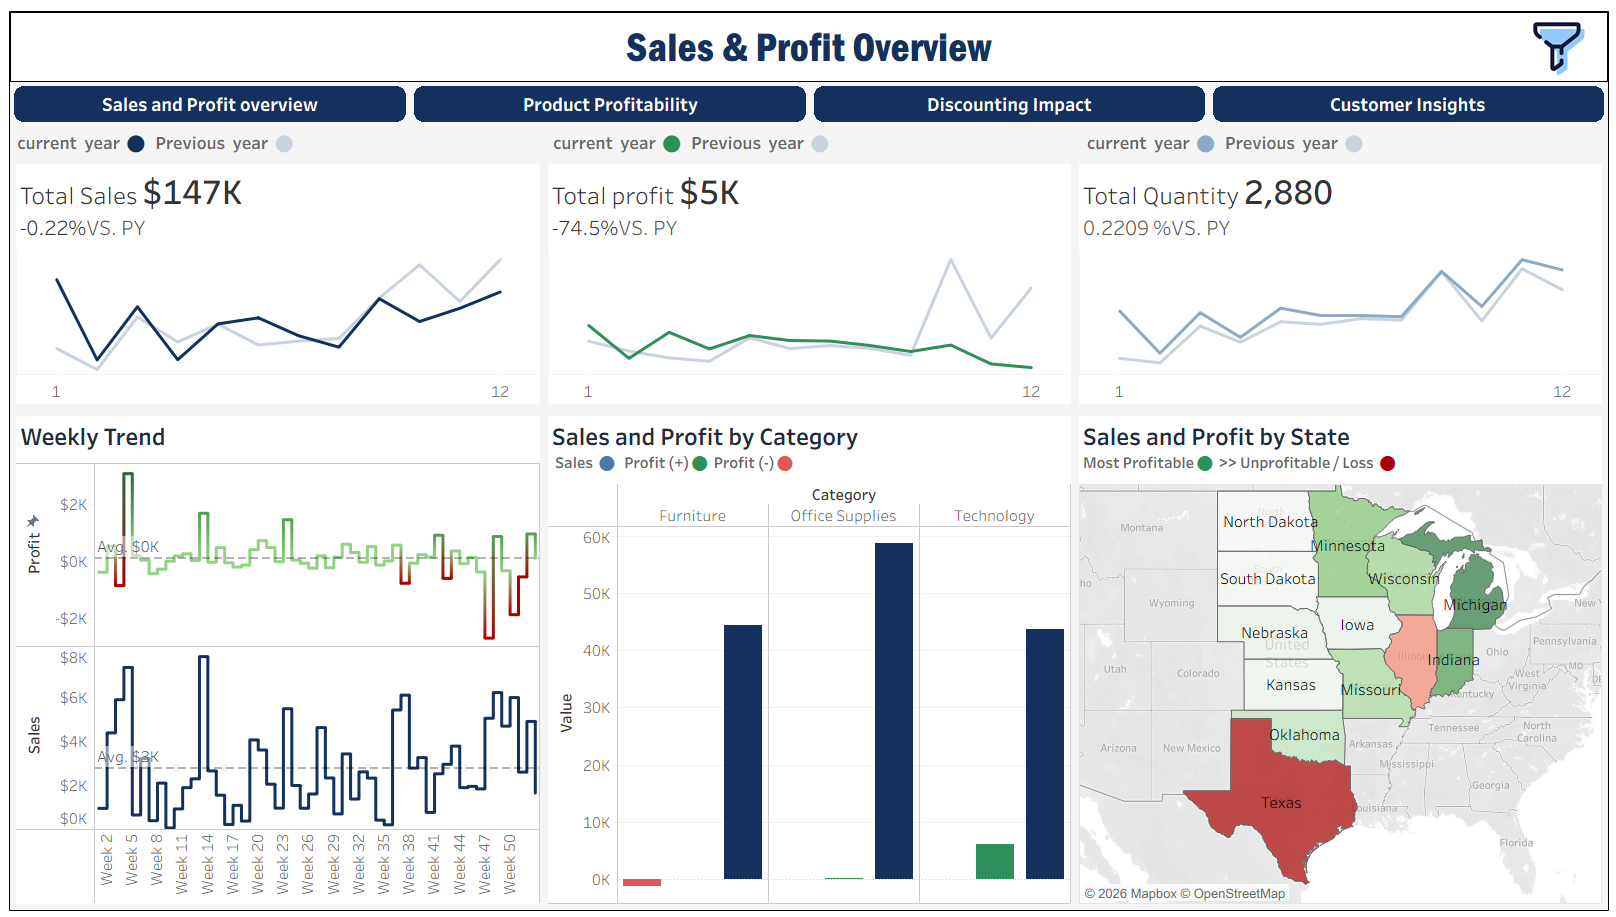

Layout of this report page (visuals, bound fields, positions):
{"tool":"tableau","page":{"name":"Sales & Profit Overview","canvas":[1600,900],"ordinal":3},"visuals":[{"type":"text","box":[2,2,1596,67.8]},{"type":"dashboard-object","box":[1506.7,3.4,80,63]},{"type":"dashboard-object","box":[1,71,400,44]},{"type":"dashboard-object","box":[401,71,400,44]},{"type":"dashboard-object","box":[801,71,399,44]},{"type":"dashboard-object","box":[1200,71,399,44]},{"type":"blank","box":[1306.7,79.5,280,35]},{"type":"text","box":[1306.7,114.5,280,38]},{"type":"text","box":[1,114.7,1598,31.9]},{"type":"worksheet","title":"KPI Sales","mark":"Line","cols":["OrderDate"],"box":[3,149,532,248]},{"type":"worksheet","title":"KPI Profit","mark":"Line","cols":["OrderDate"],"box":[535,149,531,248]},{"type":"worksheet","title":"KPI Quantity","mark":"Automatic","cols":["OrderDate"],"box":[1066,149,531,248]},{"type":"parameter","param":"[Parameters].[Parameter 1773839578595330]","box":[1306.7,152.5,280,56]},{"type":"filter","title":"KPI Sales","param":"[federated.0opk25x1w8ugs31a36b841grpmjb].[none:Segment:nk]","box":[1306.7,208.5,280,65]},{"type":"filter","title":"KPI Sales","param":"[federated.0opk25x1w8ugs31a36b841grpmjb].[none:ShipMode:nk]","box":[1306.7,273.5,280,97]},{"type":"text","box":[1306.7,370.5,280,37]},{"type":"worksheet","title":"Weekly Trend","mark":"Automatic","rows":["Calculation_1773839650213895","Calculation_1773839577329664"],"cols":["OrderDate"],"box":[3,401,532,496]},{"type":"worksheet","title":"Sales and Profit by Category","mark":"Bar","cols":["Category"],"box":[535,401,531,496]},{"type":"worksheet","title":"Sales and Profit by State","mark":"Automatic","box":[1066,401,531,496]},{"type":"filter","title":"KPI Sales","param":"[federated.0opk25x1w8ugs31a36b841grpmjb].[none:Category:nk]","box":[1306.7,407.5,280,65]},{"type":"filter","title":"KPI Sales","param":"[federated.0opk25x1w8ugs31a36b841grpmjb].[none:SubCategory:nk]","box":[1306.7,472.5,280,99]},{"type":"text","box":[1306.7,571.5,280,32]},{"type":"filter","title":"KPI Sales","param":"[federated.0opk25x1w8ugs31a36b841grpmjb].[none:State:nk]","box":[1306.7,603.5,280,61]},{"type":"filter","title":"KPI Sales","param":"[federated.0opk25x1w8ugs31a36b841grpmjb].[none:City:nk]","box":[1306.7,664.5,280,61]}]}

Visuals, with their boxes in screenshot pixels (x1, y1, x2, y2), scaled from the page's 1600x900 canvas onto the 1616x917 screenshot:
text: 2/2/1614/71
dashboard-object: 1522/3/1603/68
dashboard-object: 1/72/405/117
dashboard-object: 405/72/809/117
dashboard-object: 809/72/1212/117
dashboard-object: 1212/72/1615/117
blank: 1320/81/1603/117
text: 1320/117/1603/155
text: 1/117/1615/149
"KPI Sales" worksheet (Line marks): 3/152/540/404
"KPI Profit" worksheet (Line marks): 540/152/1077/404
"KPI Quantity" worksheet: 1077/152/1613/404
parameter: 1320/155/1603/212
"KPI Sales" filter: 1320/212/1603/279
"KPI Sales" filter: 1320/279/1603/377
text: 1320/377/1603/415
"Weekly Trend" worksheet: 3/409/540/914
"Sales and Profit by Category" worksheet (Bar marks): 540/409/1077/914
"Sales and Profit by State" worksheet: 1077/409/1613/914
"KPI Sales" filter: 1320/415/1603/481
"KPI Sales" filter: 1320/481/1603/582
text: 1320/582/1603/615
"KPI Sales" filter: 1320/615/1603/677
"KPI Sales" filter: 1320/677/1603/739
